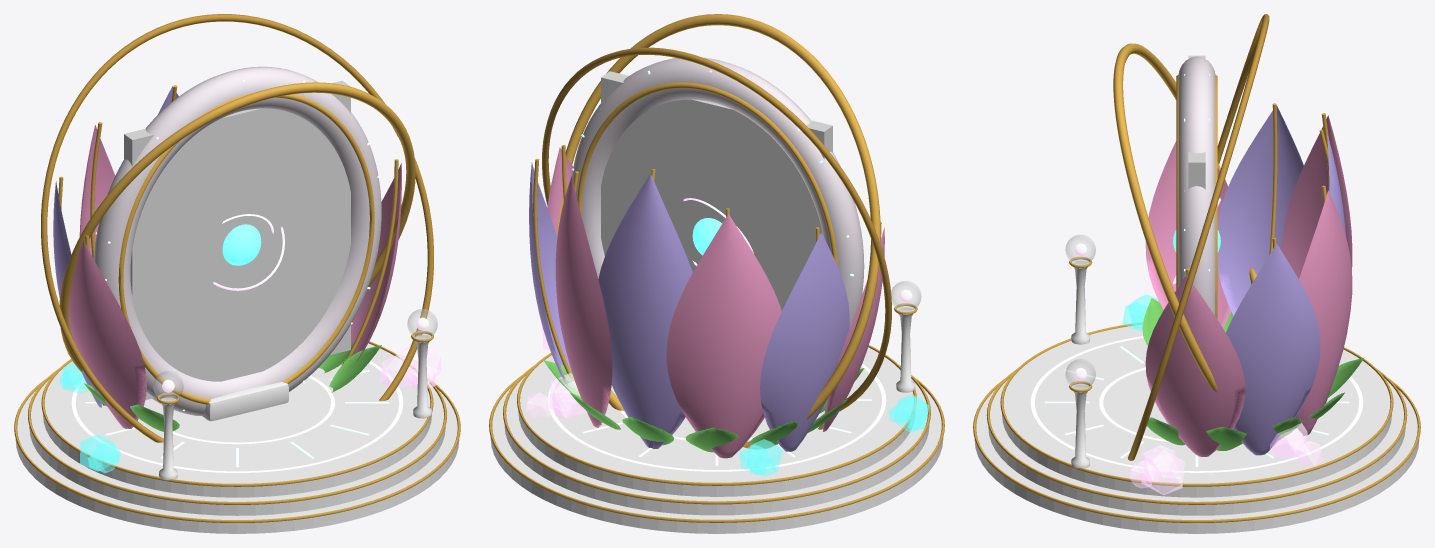
The model's file is CB_Portal.glb.
The picture shows the model from 3 angles, left to right: view 1: azimuth 30°, elevation 25°; view 2: azimuth 150°, elevation 25°; view 3: azimuth 270°, elevation 25°; orthographic projection. The views are drawn at different scales.
Parts seen in each view (by area): view 1: TRG_Teleporte, CB_Portal_Estrutura_PedraPerolada, CB_Portal_Anel_Perola, CB_Portal_Frisos_Dourado, CB_Portal_Petalas_Petala, CB_Portal_AnelSuspenso2_DouradoEscovado, CB_Portal_AnelSuspenso1_Dourado, CB_Portal_Inscricoes_Inscricao, CB_Portal_Sepalas_Folha, CB_Portal_Anel_PedraPerolada, CB_Portal_Luminarias_PedraPerolada, CB_Portal_Cristais_Cristal (+4 smaller); view 2: CB_Portal_Estrutura_PedraPerolada, CB_Portal_Petalas_PetalaLilas, CB_Portal_Petalas_Petala, TRG_Teleporte, CB_Portal_Anel_Perola, CB_Portal_Frisos_Dourado, CB_Portal_AnelSuspenso1_Dourado, CB_Portal_AnelSuspenso2_DouradoEscovado, CB_Portal_Sepalas_Folha, CB_Portal_Cristais_Cristal, CB_Portal_Inscricoes_Inscricao, CB_Portal_Cristais_CristalRosa (+3 smaller); view 3: CB_Portal_Estrutura_PedraPerolada, CB_Portal_Petalas_Petala, CB_Portal_Petalas_PetalaLilas, CB_Portal_Frisos_Dourado, CB_Portal_Anel_Perola, CB_Portal_AnelSuspenso2_DouradoEscovado, CB_Portal_AnelSuspenso1_Dourado, CB_Portal_Cristais_CristalRosa, CB_Portal_Sepalas_Folha, CB_Portal_Inscricoes_Inscricao, CB_Portal_Luminarias_PedraPerolada, CB_Portal_Luminarias_Bolha (+2 smaller).
Part boxes in pixels (x1,y1,x2,y2): TRG_Teleporte: (124, 80, 350, 399); CB_Portal_Estrutura_PedraPerolada: (15, 343, 459, 533); CB_Portal_Anel_Perola: (93, 66, 381, 415); CB_Portal_Frisos_Dourado: (14, 85, 460, 522); CB_Portal_Petalas_Petala: (68, 125, 401, 428); CB_Portal_AnelSuspenso2_DouradoEscovado: (41, 14, 433, 442); CB_Portal_AnelSuspenso1_Dourado: (59, 82, 415, 372); CB_Portal_Inscricoes_Inscricao: (71, 80, 403, 472); CB_Portal_Sepalas_Folha: (67, 342, 381, 431); CB_Portal_Anel_PedraPerolada: (202, 382, 288, 421); CB_Portal_Luminarias_PedraPerolada: (159, 335, 431, 480); CB_Portal_Cristais_Cristal: (59, 362, 120, 473); CB_Portal_Estrutura_PedraPerolada: (490, 347, 943, 533); CB_Portal_Petalas_PetalaLilas: (529, 162, 849, 451); CB_Portal_Petalas_Petala: (547, 147, 884, 458); TRG_Teleporte: (601, 71, 832, 310); CB_Portal_Anel_Perola: (572, 57, 864, 328); CB_Portal_Frisos_Dourado: (489, 82, 944, 522); CB_Portal_AnelSuspenso1_Dourado: (556, 14, 880, 448); CB_Portal_AnelSuspenso2_DouradoEscovado: (542, 47, 891, 411); CB_Portal_Sepalas_Folha: (543, 360, 864, 452); CB_Portal_Cristais_Cristal: (739, 394, 929, 476); CB_Portal_Inscricoes_Inscricao: (548, 70, 886, 471); CB_Portal_Cristais_CristalRosa: (525, 325, 587, 417); CB_Portal_Estrutura_PedraPerolada: (974, 324, 1419, 533); CB_Portal_Petalas_Petala: (1145, 115, 1352, 456); CB_Portal_Petalas_PetalaLilas: (1217, 105, 1346, 455); CB_Portal_Frisos_Dourado: (973, 75, 1420, 522); CB_Portal_Anel_Perola: (1178, 56, 1215, 315); CB_Portal_AnelSuspenso2_DouradoEscovado: (1128, 14, 1269, 460); CB_Portal_AnelSuspenso1_Dourado: (1113, 43, 1256, 392); CB_Portal_Cristais_CristalRosa: (1129, 423, 1322, 494); CB_Portal_Sepalas_Folha: (1142, 298, 1364, 450); CB_Portal_Inscricoes_Inscricao: (1030, 74, 1363, 472); CB_Portal_Luminarias_PedraPerolada: (1071, 261, 1089, 468); CB_Portal_Luminarias_Bolha: (1065, 235, 1095, 389).
Bounding box in the file's own units: 26.18 × 26.32 × 26.18.
